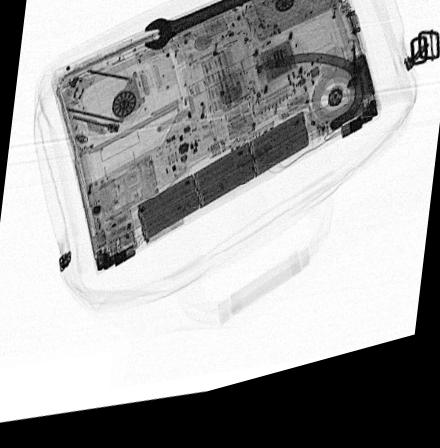Wrench: (139, 0, 291, 59)
